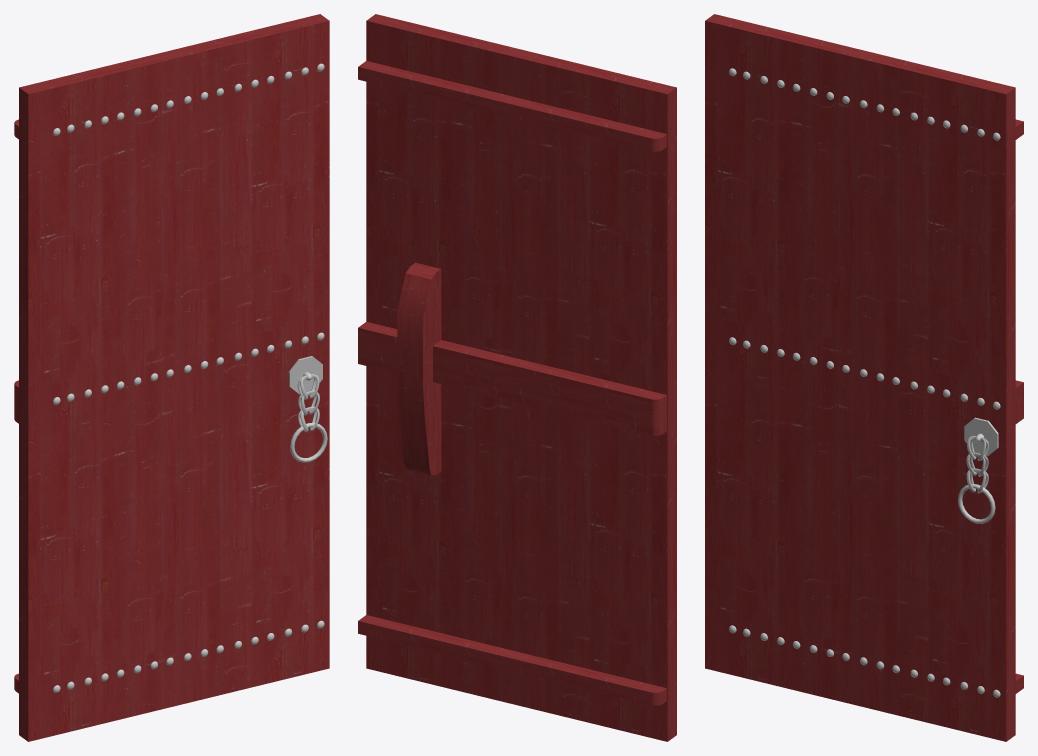
Rendered from SM_D_Gate_2.FBX.
3 views of the same model, side by side, from view 1: azimuth 30°, elevation 25°; view 2: azimuth 150°, elevation 25°; view 3: azimuth 330°, elevation 25° (orthographic).
Visible parts, largest first — view 1: SM_D_Gate_2; view 2: SM_D_Gate_2; view 3: SM_D_Gate_2.
Boxes of the visible parts, x1=… form: SM_D_Gate_2: x1=14, y1=14, x2=329, y2=741; SM_D_Gate_2: x1=358, y1=14, x2=676, y2=741; SM_D_Gate_2: x1=705, y1=14, x2=1023, y2=741.
Size of the model in its own units: 119 by 23.26 by 245.
